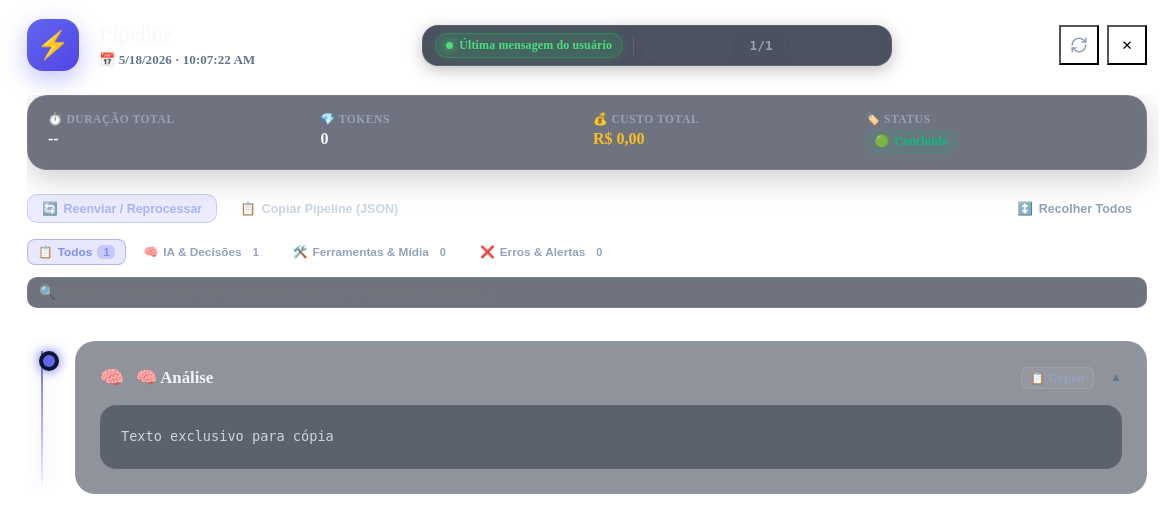
Test case: AutomationPipelineModal Component › deve copiar o conteúdo de um passo individual ao clicar no botão Copiar do card
Click the button titled "Copiar texto desta etapa": (1058, 378) x1=1021 y1=366 x2=1094 y2=388
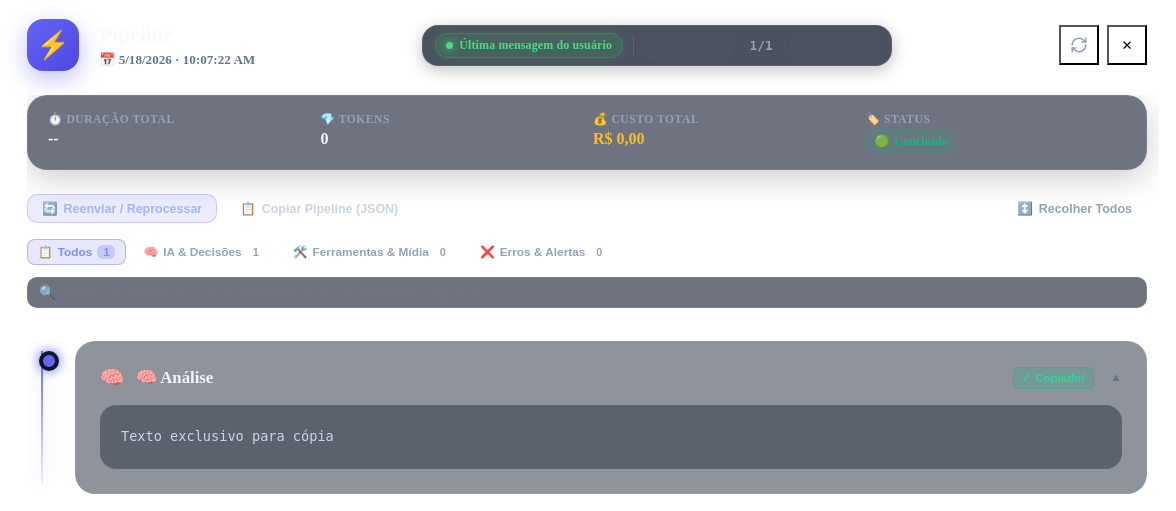
Now the text "Copiado!" is shown, box x1=1035 y1=372 x2=1085 y2=384
